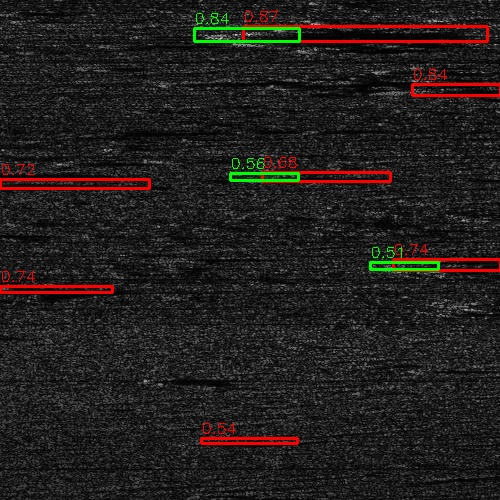rock: (208, 21, 281, 46), (355, 85, 448, 94), (294, 43, 357, 50), (266, 173, 319, 178), (163, 439, 216, 444), (457, 300, 498, 303), (137, 375, 168, 378)
shadow: (245, 21, 450, 46), (0, 179, 165, 188), (402, 85, 500, 94), (326, 43, 432, 50), (0, 168, 106, 175), (293, 173, 392, 178), (190, 439, 277, 444), (0, 285, 64, 290), (153, 375, 240, 378), (0, 227, 29, 234), (223, 493, 283, 496), (190, 255, 282, 256), (478, 300, 500, 303), (483, 215, 500, 216)
